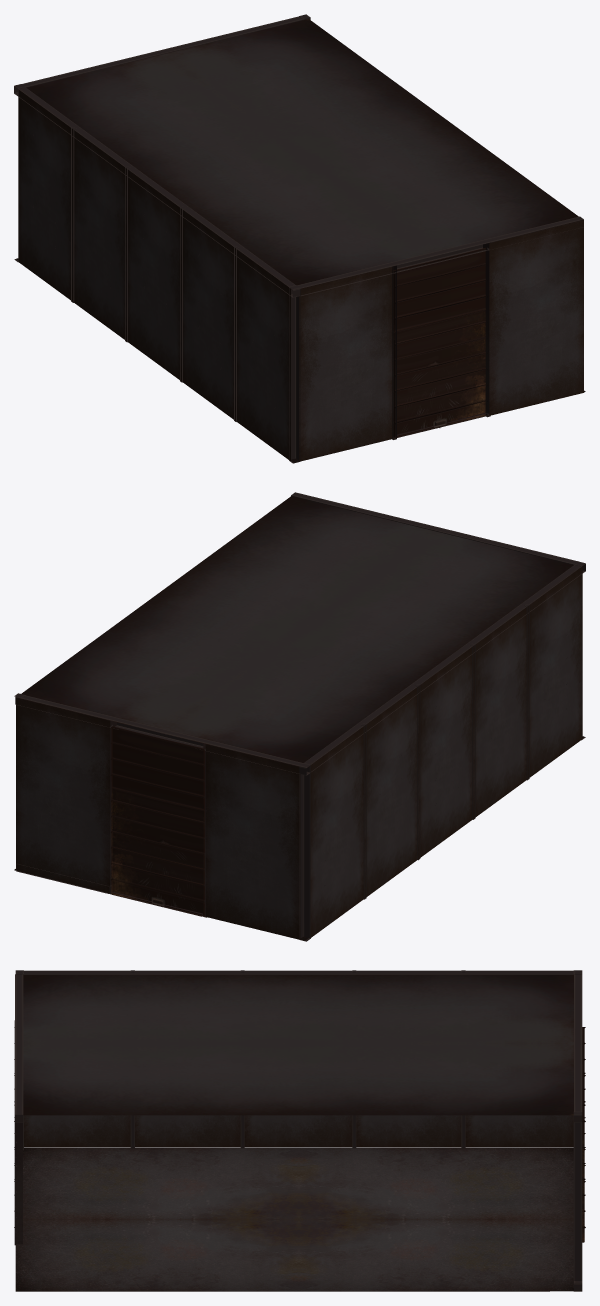
File: 1_0_SHELL.fbx
The picture shows the model from 3 angles, top to bottom: view 1: azimuth 30°, elevation 25°; view 2: azimuth 150°, elevation 25°; view 3: azimuth 270°, elevation 25°; orthographic projection.
Parts seen in each view (by area): view 1: Ceiling, Cargo_Wall_Modular16, Cargo_Wall_Modular15, VerticalSlidingDoor4, Cargo_Wall_Modular1, Cargo_Wall_Modular10, Cargo_Wall_Modular11, Cargo_Wall_Modular12, Cargo_Wall_Modular9, Long_Horizontal_Beam1, Medium_Horizontal_Beam2, Thick_Vertical_Beam1 (+3 smaller); view 2: Ceiling, Cargo_Wall_Modular13, Cargo_Wall_Modular14, VerticalSlidingDoor3, Cargo_Wall_Modular9, Cargo_Wall_Modular1, Cargo_Wall_Modular10, Cargo_Wall_Modular11, Cargo_Wall_Modular12, Long_Horizontal_Beam1, Thick_Vertical_Beam2, Medium_Horizontal_Beam1 (+5 smaller); view 3: Ceiling, Cargo_Floor3, Cargo_Floor1, Cargo_Wall_Modular10, Cargo_Wall_Modular12, Cargo_Wall_Modular1, Cargo_Wall_Modular9, Cargo_Wall_Modular11, Long_Horizontal_Beam1, Thick_Vertical_Beam3, Medium_Horizontal_Beam2, Medium_Horizontal_Beam1 (+2 smaller).
Part boxes in pixels (x1,y1,x2,y2): Ceiling: (15,19,582,289); Cargo_Wall_Modular16: (489,220,583,415); Cargo_Wall_Modular15: (299,266,393,461); VerticalSlidingDoor4: (393,248,487,437); Cargo_Wall_Modular1: (237,249,290,461); Cargo_Wall_Modular10: (128,170,181,381); Cargo_Wall_Modular11: (73,129,126,341); Cargo_Wall_Modular12: (18,90,72,301); Cargo_Wall_Modular9: (183,210,235,420); Long_Horizontal_Beam1: (14,86,300,297); Medium_Horizontal_Beam2: (297,216,583,295); Thick_Vertical_Beam1: (289,285,300,463); Ceiling: (16,496,584,767); Cargo_Wall_Modular13: (205,744,300,939); Cargo_Wall_Modular14: (16,698,110,893); VerticalSlidingDoor3: (110,726,204,916); Cargo_Wall_Modular9: (473,606,528,818); Cargo_Wall_Modular1: (528,566,582,778); Cargo_Wall_Modular10: (419,646,473,858); Cargo_Wall_Modular11: (364,686,418,898); Cargo_Wall_Modular12: (310,727,363,938); Long_Horizontal_Beam1: (299,563,585,775); Thick_Vertical_Beam2: (299,763,310,941); Medium_Horizontal_Beam1: (15,695,302,773); Ceiling: (23,975,573,1115); Cargo_Floor3: (15,1219,582,1291); Cargo_Floor1: (23,1147,573,1219); Cargo_Wall_Modular10: (244,1115,352,1146); Cargo_Wall_Modular12: (465,1115,573,1146); Cargo_Wall_Modular1: (24,1115,130,1146); Cargo_Wall_Modular9: (135,1115,240,1146); Cargo_Wall_Modular11: (356,1115,461,1146); Long_Horizontal_Beam1: (24,970,573,974); Thick_Vertical_Beam3: (573,1111,582,1291); Medium_Horizontal_Beam2: (15,974,23,1122); Medium_Horizontal_Beam1: (574,974,582,1122).
Size of the model in its own units: 432 by 245 by 718.
